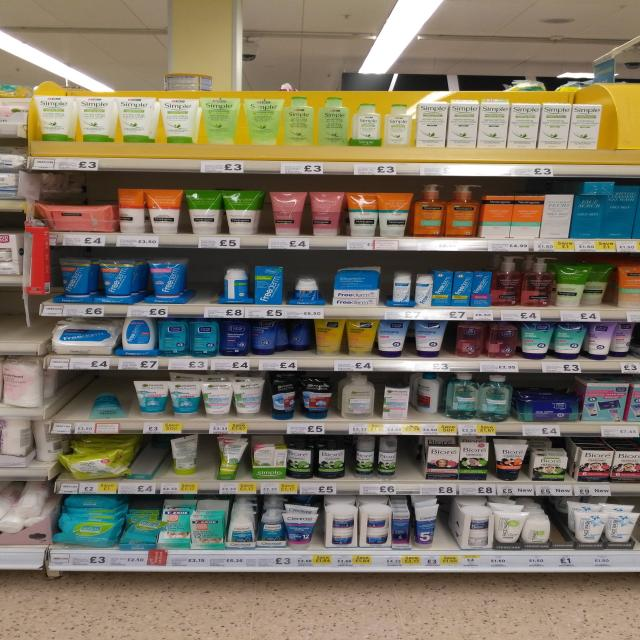void: (122, 433, 172, 494), (0, 289, 39, 355), (52, 372, 89, 434), (187, 256, 216, 318)
